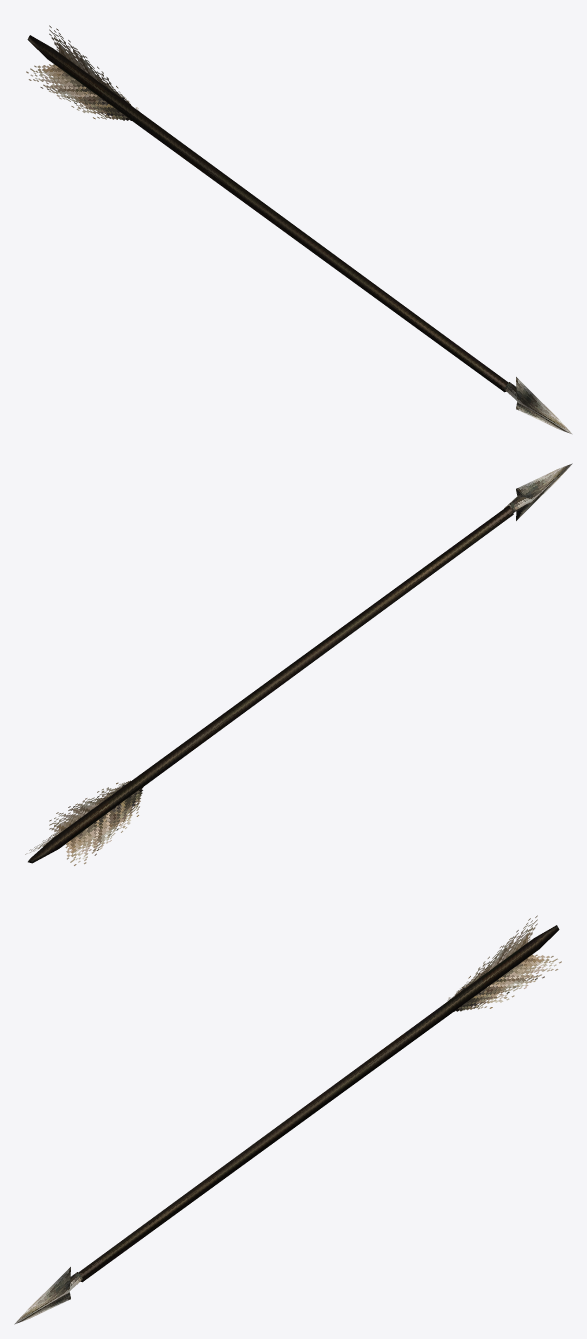
File: cha_arrow_hwan.glb
3 renders of one model, top to bottom at view 1: azimuth 30°, elevation 25°; view 2: azimuth 150°, elevation 25°; view 3: azimuth 330°, elevation 25°, orthographic.
Visible parts, largest first — view 1: cha_arrow_01; view 2: cha_arrow_01; view 3: cha_arrow_01.
Part boxes in pixels (bbox=[...]): cha_arrow_01: bbox=[26, 25, 572, 434]; cha_arrow_01: bbox=[25, 463, 572, 865]; cha_arrow_01: bbox=[14, 915, 561, 1324].
Bounding box in the file's own units: 1.01 × 0.7882 × 14.03.
1 material, 1 textured.
